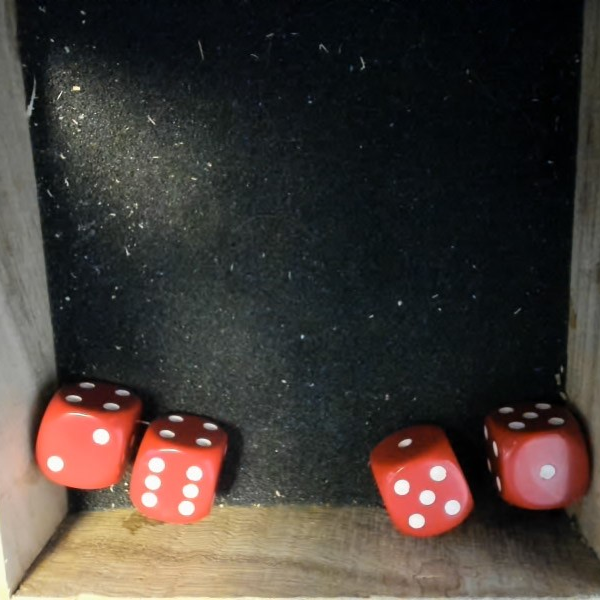red_die_pip1: (478, 400, 593, 514)
red_die_pip2: (26, 368, 142, 498)
red_die_pip5: (360, 419, 481, 547)
red_die_pip6: (126, 407, 240, 537)
